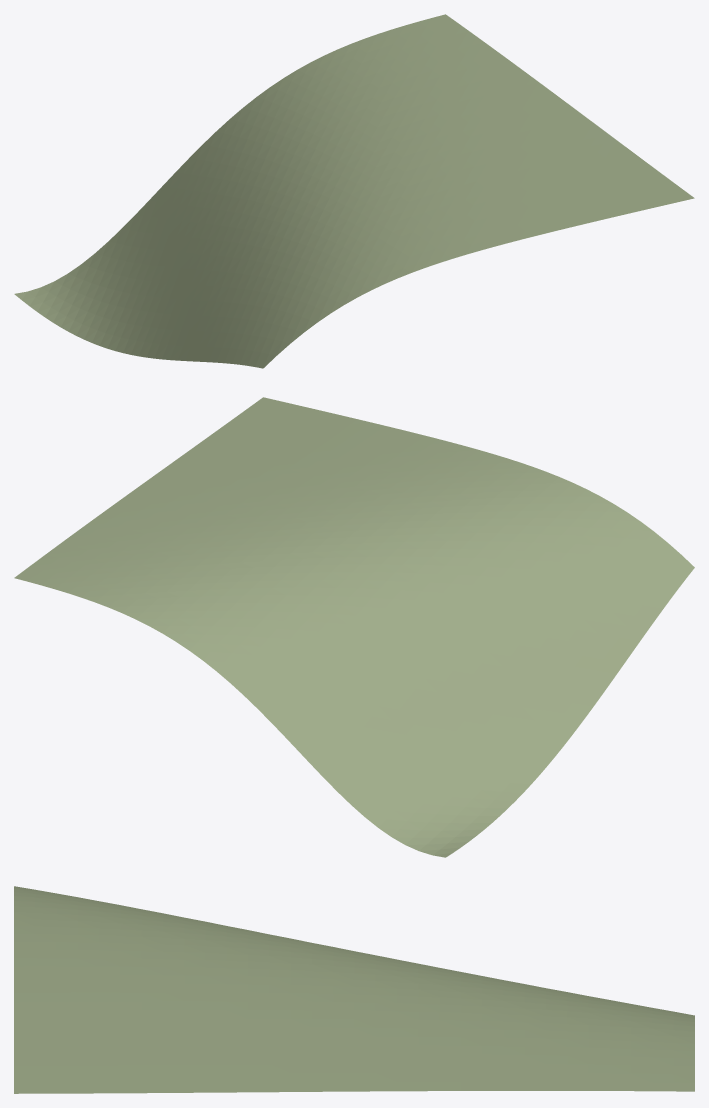
File: expanse-14-13.glb
3 views of the same model, one above another, from view 1: azimuth 30°, elevation 25°; view 2: azimuth 150°, elevation 25°; view 3: azimuth 270°, elevation 25° (orthographic). The views are drawn at different scales.
Visible parts, largest first — view 1: expanse-14-13; view 2: expanse-14-13; view 3: expanse-14-13.
Part boxes in pixels (x1,y1,x2,y2): expanse-14-13: [14, 14, 694, 368]; expanse-14-13: [14, 397, 694, 857]; expanse-14-13: [14, 886, 694, 1093].
Bounding box in the file's own units: 256 × 99.84 × 256.
